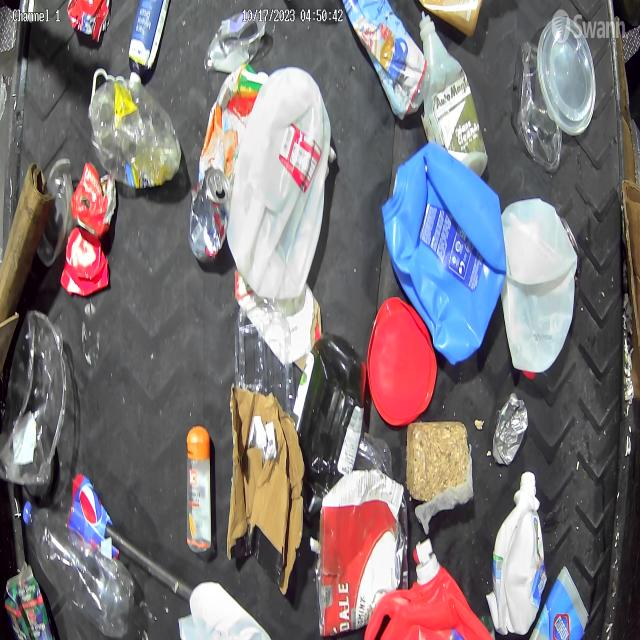can: (189, 167, 230, 265), (492, 393, 528, 467)
milk_jug: (231, 63, 332, 294), (501, 195, 578, 384)
non_white_jug: (383, 146, 508, 365), (292, 332, 366, 520), (360, 560, 498, 640)
plastic_bottle: (22, 499, 136, 639)
